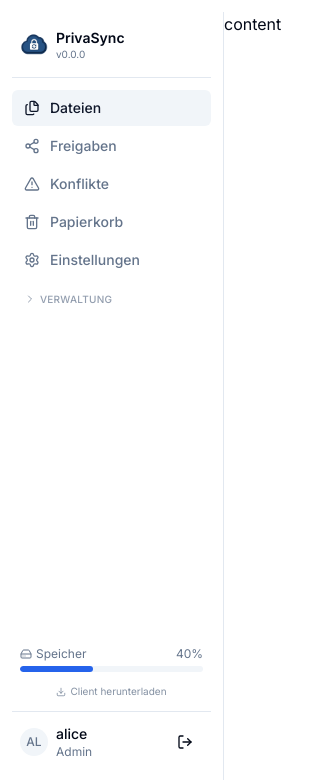
AppShell — Navigation › zeigt die Admin-Sektion aufklappbar fuer Admin-User
The image size is (320, 780).
Click the button "Verwaltung" at (112, 301), box [12, 292, 211, 310]
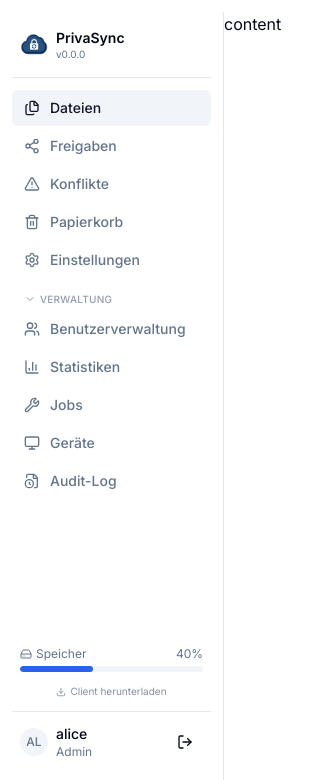
Expected: the button "Verwaltung" is expanded, [12, 292, 211, 310]
Expected: the link "Benutzerverwaltung" is shown, [24, 320, 186, 336]
